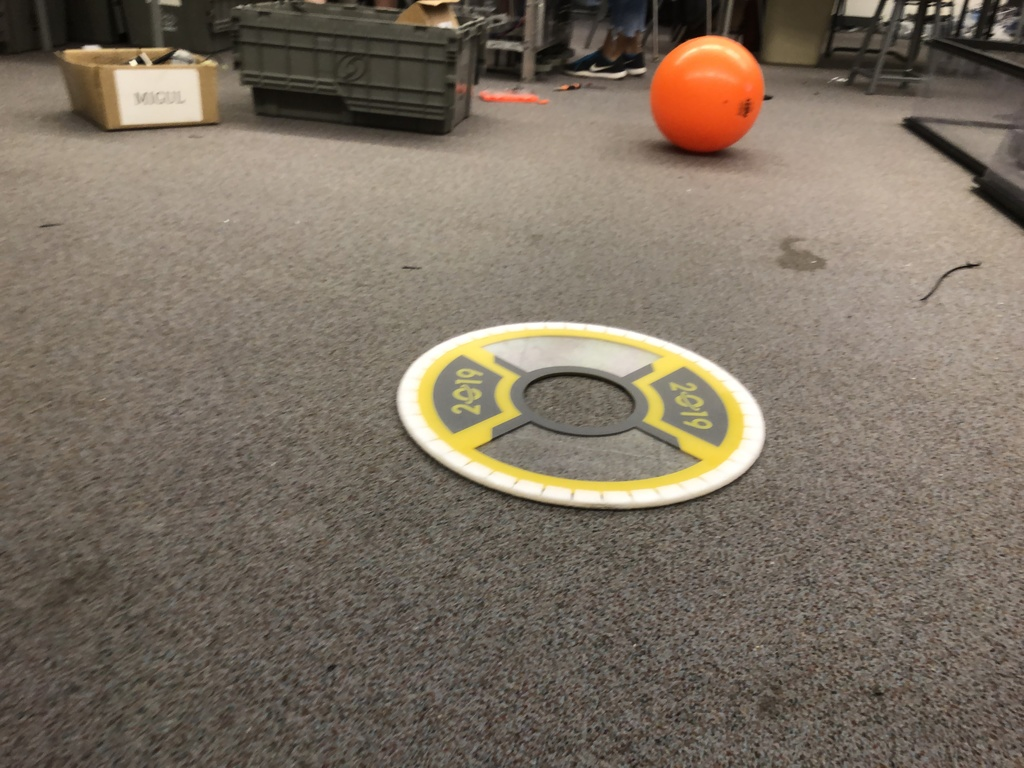hatch_panel: (381, 313, 787, 517)
